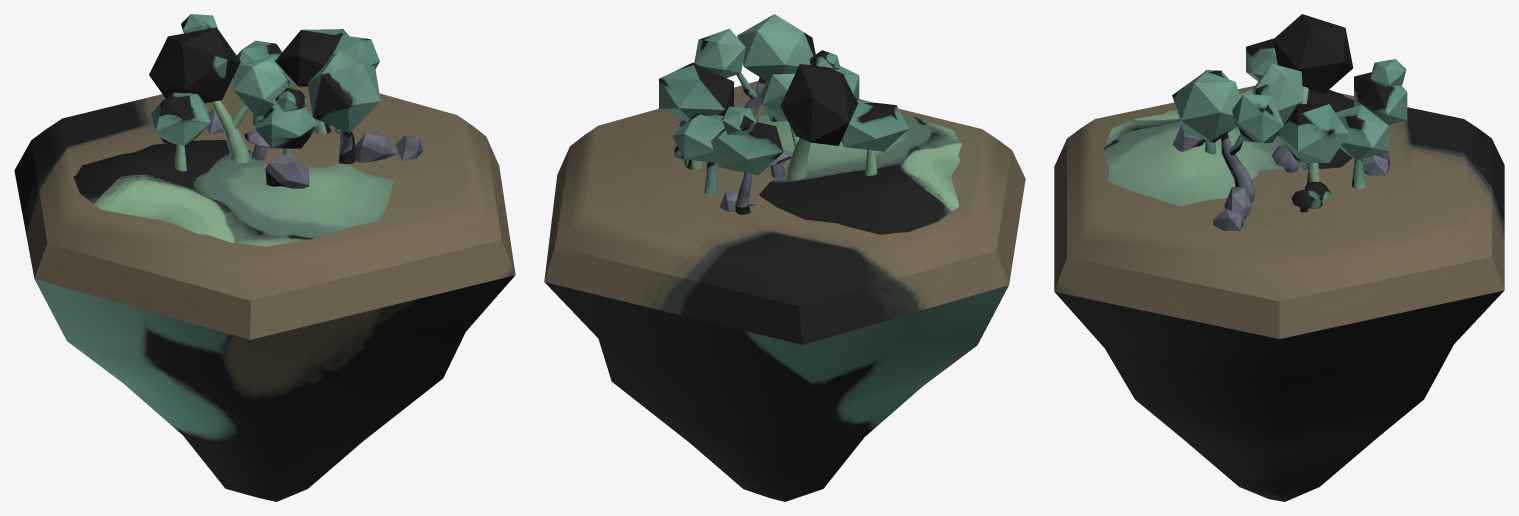
The model's file is islet_6.fbx.
3 renders of one model, left to right at view 1: azimuth 30°, elevation 25°; view 2: azimuth 150°, elevation 25°; view 3: azimuth 270°, elevation 25°, orthographic. The views are drawn at different scales.
Visible parts, largest first — view 1: polySurface540; view 2: polySurface540; view 3: polySurface540.
Part boxes in pixels (box(x1,y1,x2,y2)): polySurface540: box(14, 14, 515, 501); polySurface540: box(544, 14, 1025, 501); polySurface540: box(1054, 14, 1504, 501).
Bounding box in the file's own units: 11.53 × 11.08 × 9.99.
